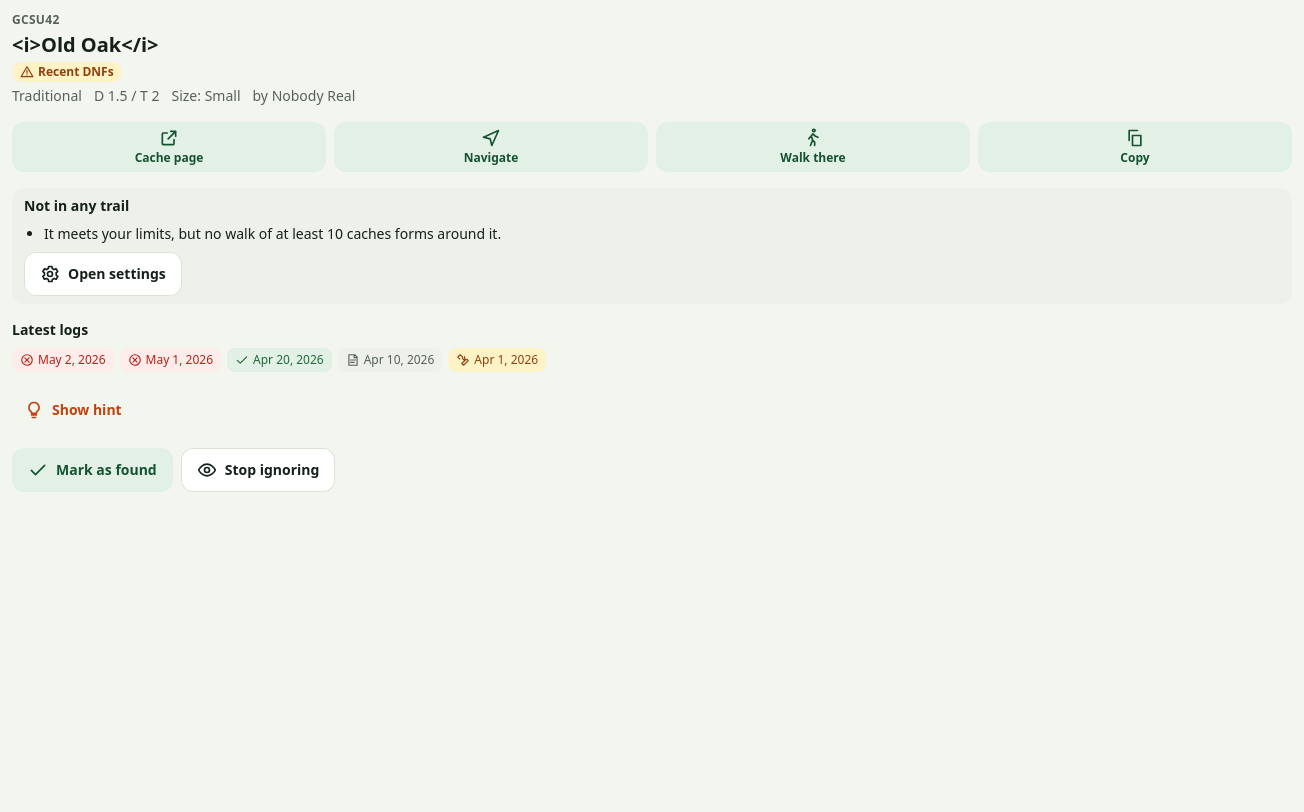
marking a cache › lets an ignored cache back in
Click the button "Stop ignoring" at (258, 470), box [181,448,335,492]
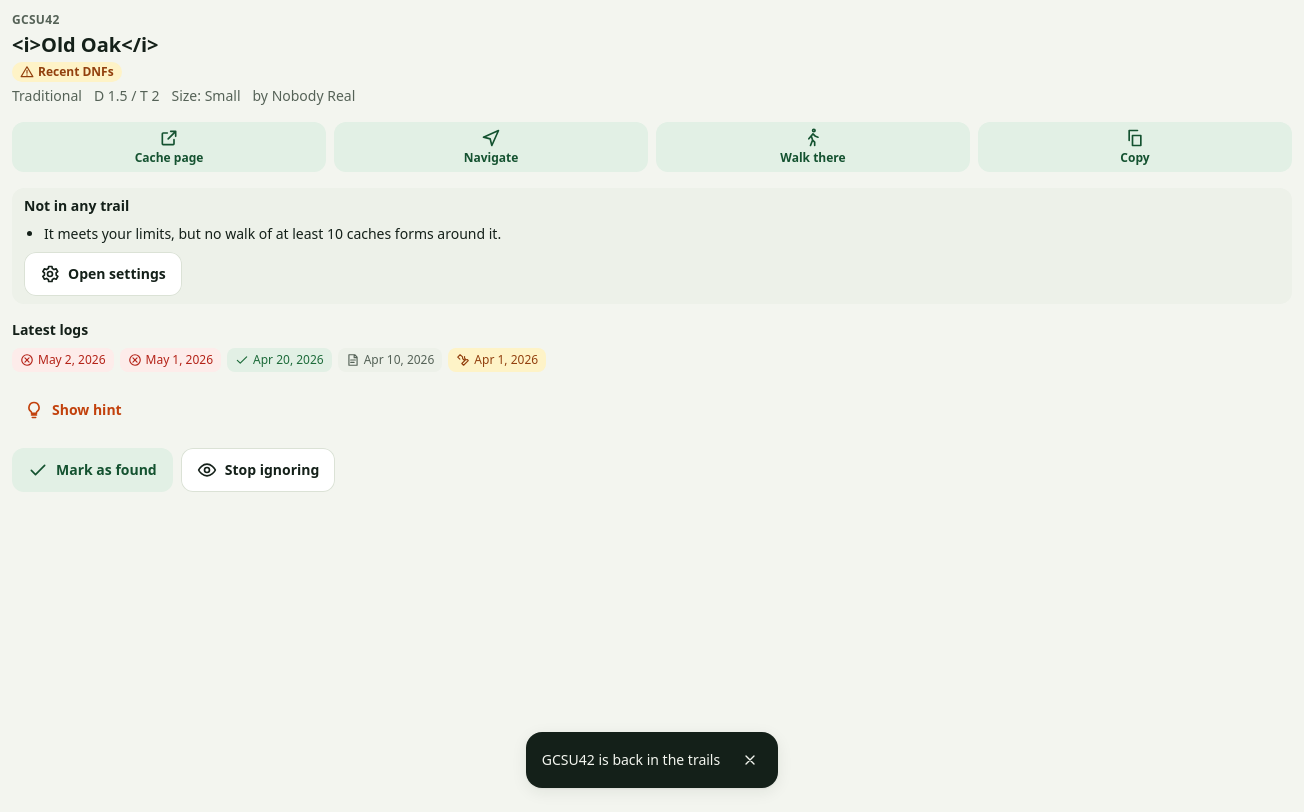
Now the element with test id "toast" reads "GCSU42 is back in the trails", box [542,750,720,769]
